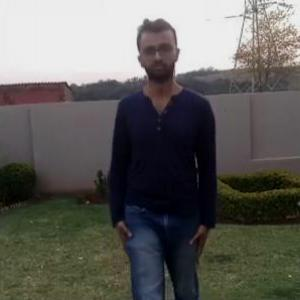follow: (102, 12, 224, 299)
